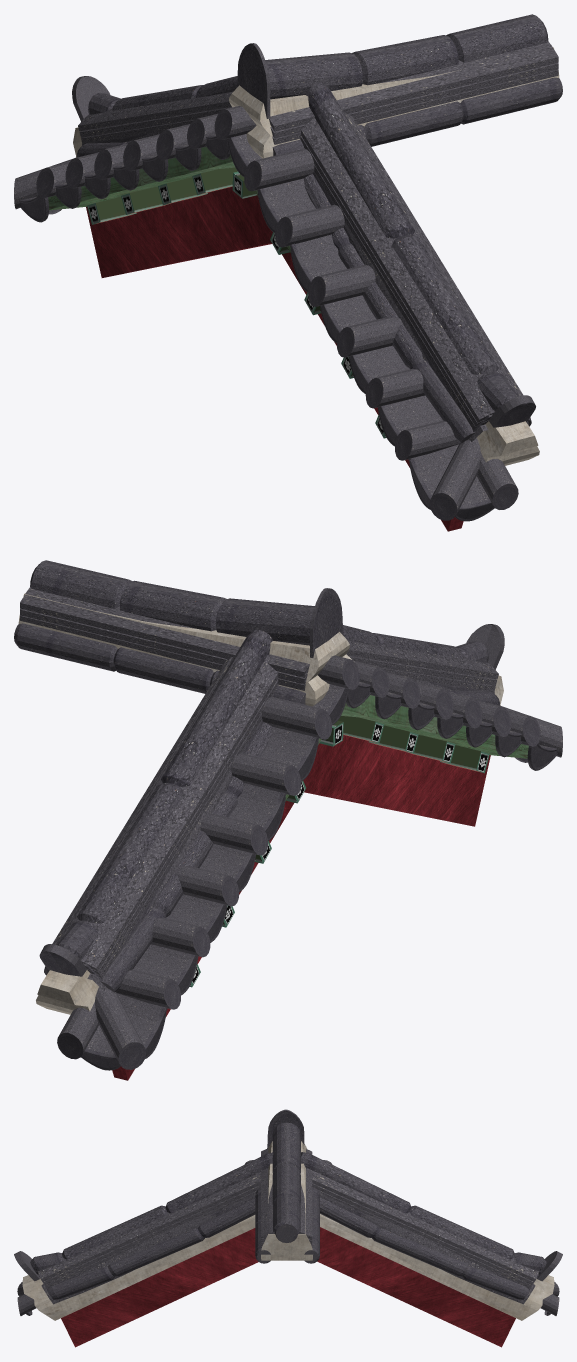
Rendered from SM_R_RoofOuter_7.fbx.
3 renders of one model, top to bottom at view 1: azimuth 30°, elevation 25°; view 2: azimuth 150°, elevation 25°; view 3: azimuth 270°, elevation 25°, orthographic. The views are drawn at different scales.
Parts seen in each view (by area): view 1: SM_R_RoofOuter_7; view 2: SM_R_RoofOuter_7; view 3: SM_R_RoofOuter_7.
Boxes of the visible parts, x1=… form: SM_R_RoofOuter_7: x1=14, y1=14, x2=562, y2=531; SM_R_RoofOuter_7: x1=14, y1=560, x2=562, y2=1080; SM_R_RoofOuter_7: x1=14, y1=1109, x2=562, y2=1347.
Size of the model in its own units: 276 by 667 by 304.
Materials: 4 (4 with a texture image).
